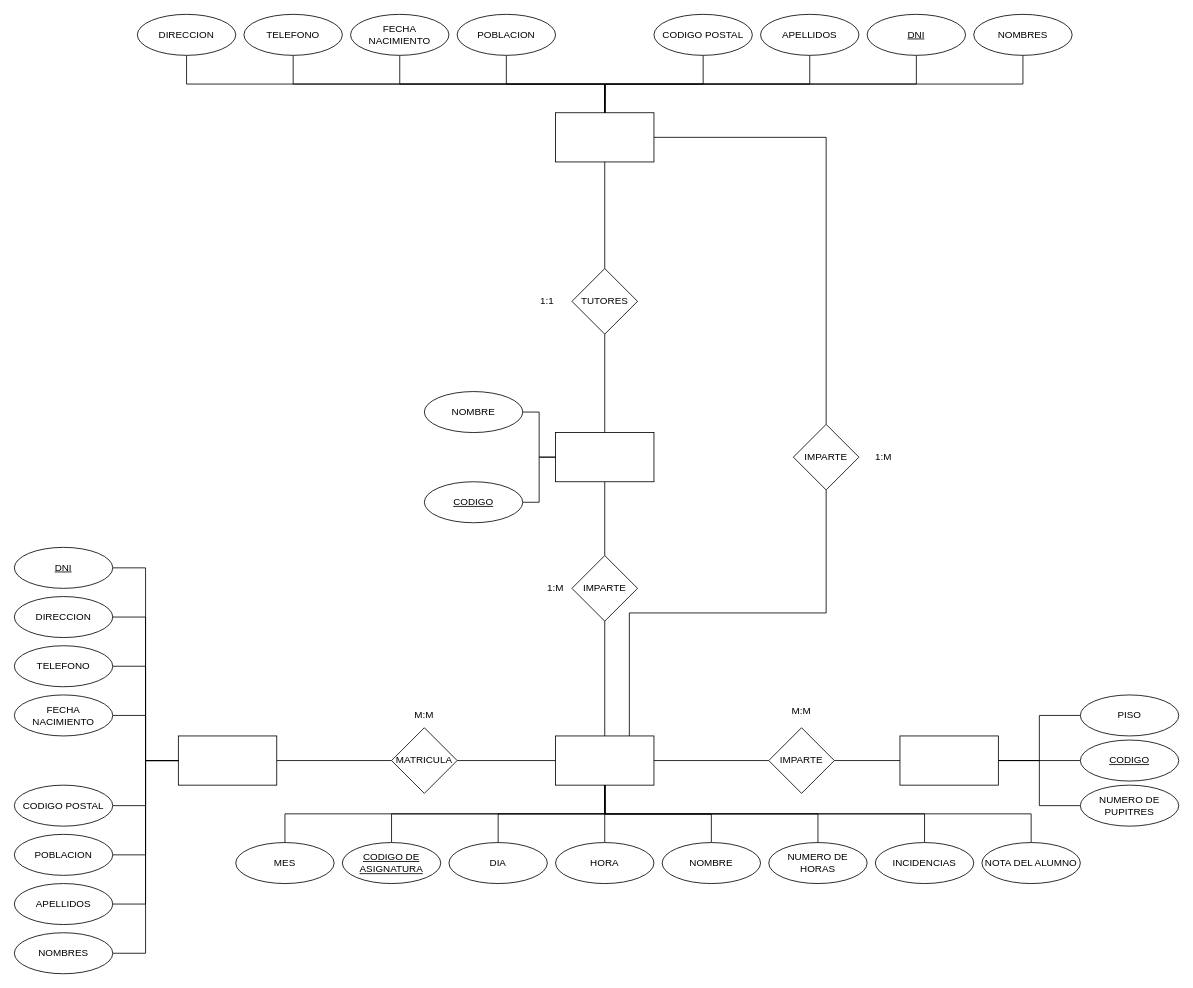
This 1193x988 diagram has some shape labels left out. Each missing label, with the centre of its shape:
"ALUMNO" goes at pixel 227 760.
"ASIGNATURAS" goes at pixel 604 760.
"AULAS" goes at pixel 948 760.
"CURSOS" goes at pixel 604 457.
"PROFESORES" goes at pixel 604 137.
